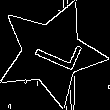L_NW: (21, 29, 81, 77)
